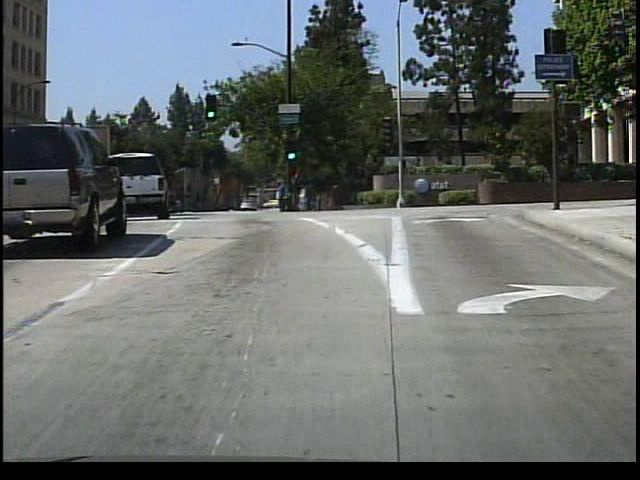person: (271, 173, 292, 214), (295, 179, 314, 214)
